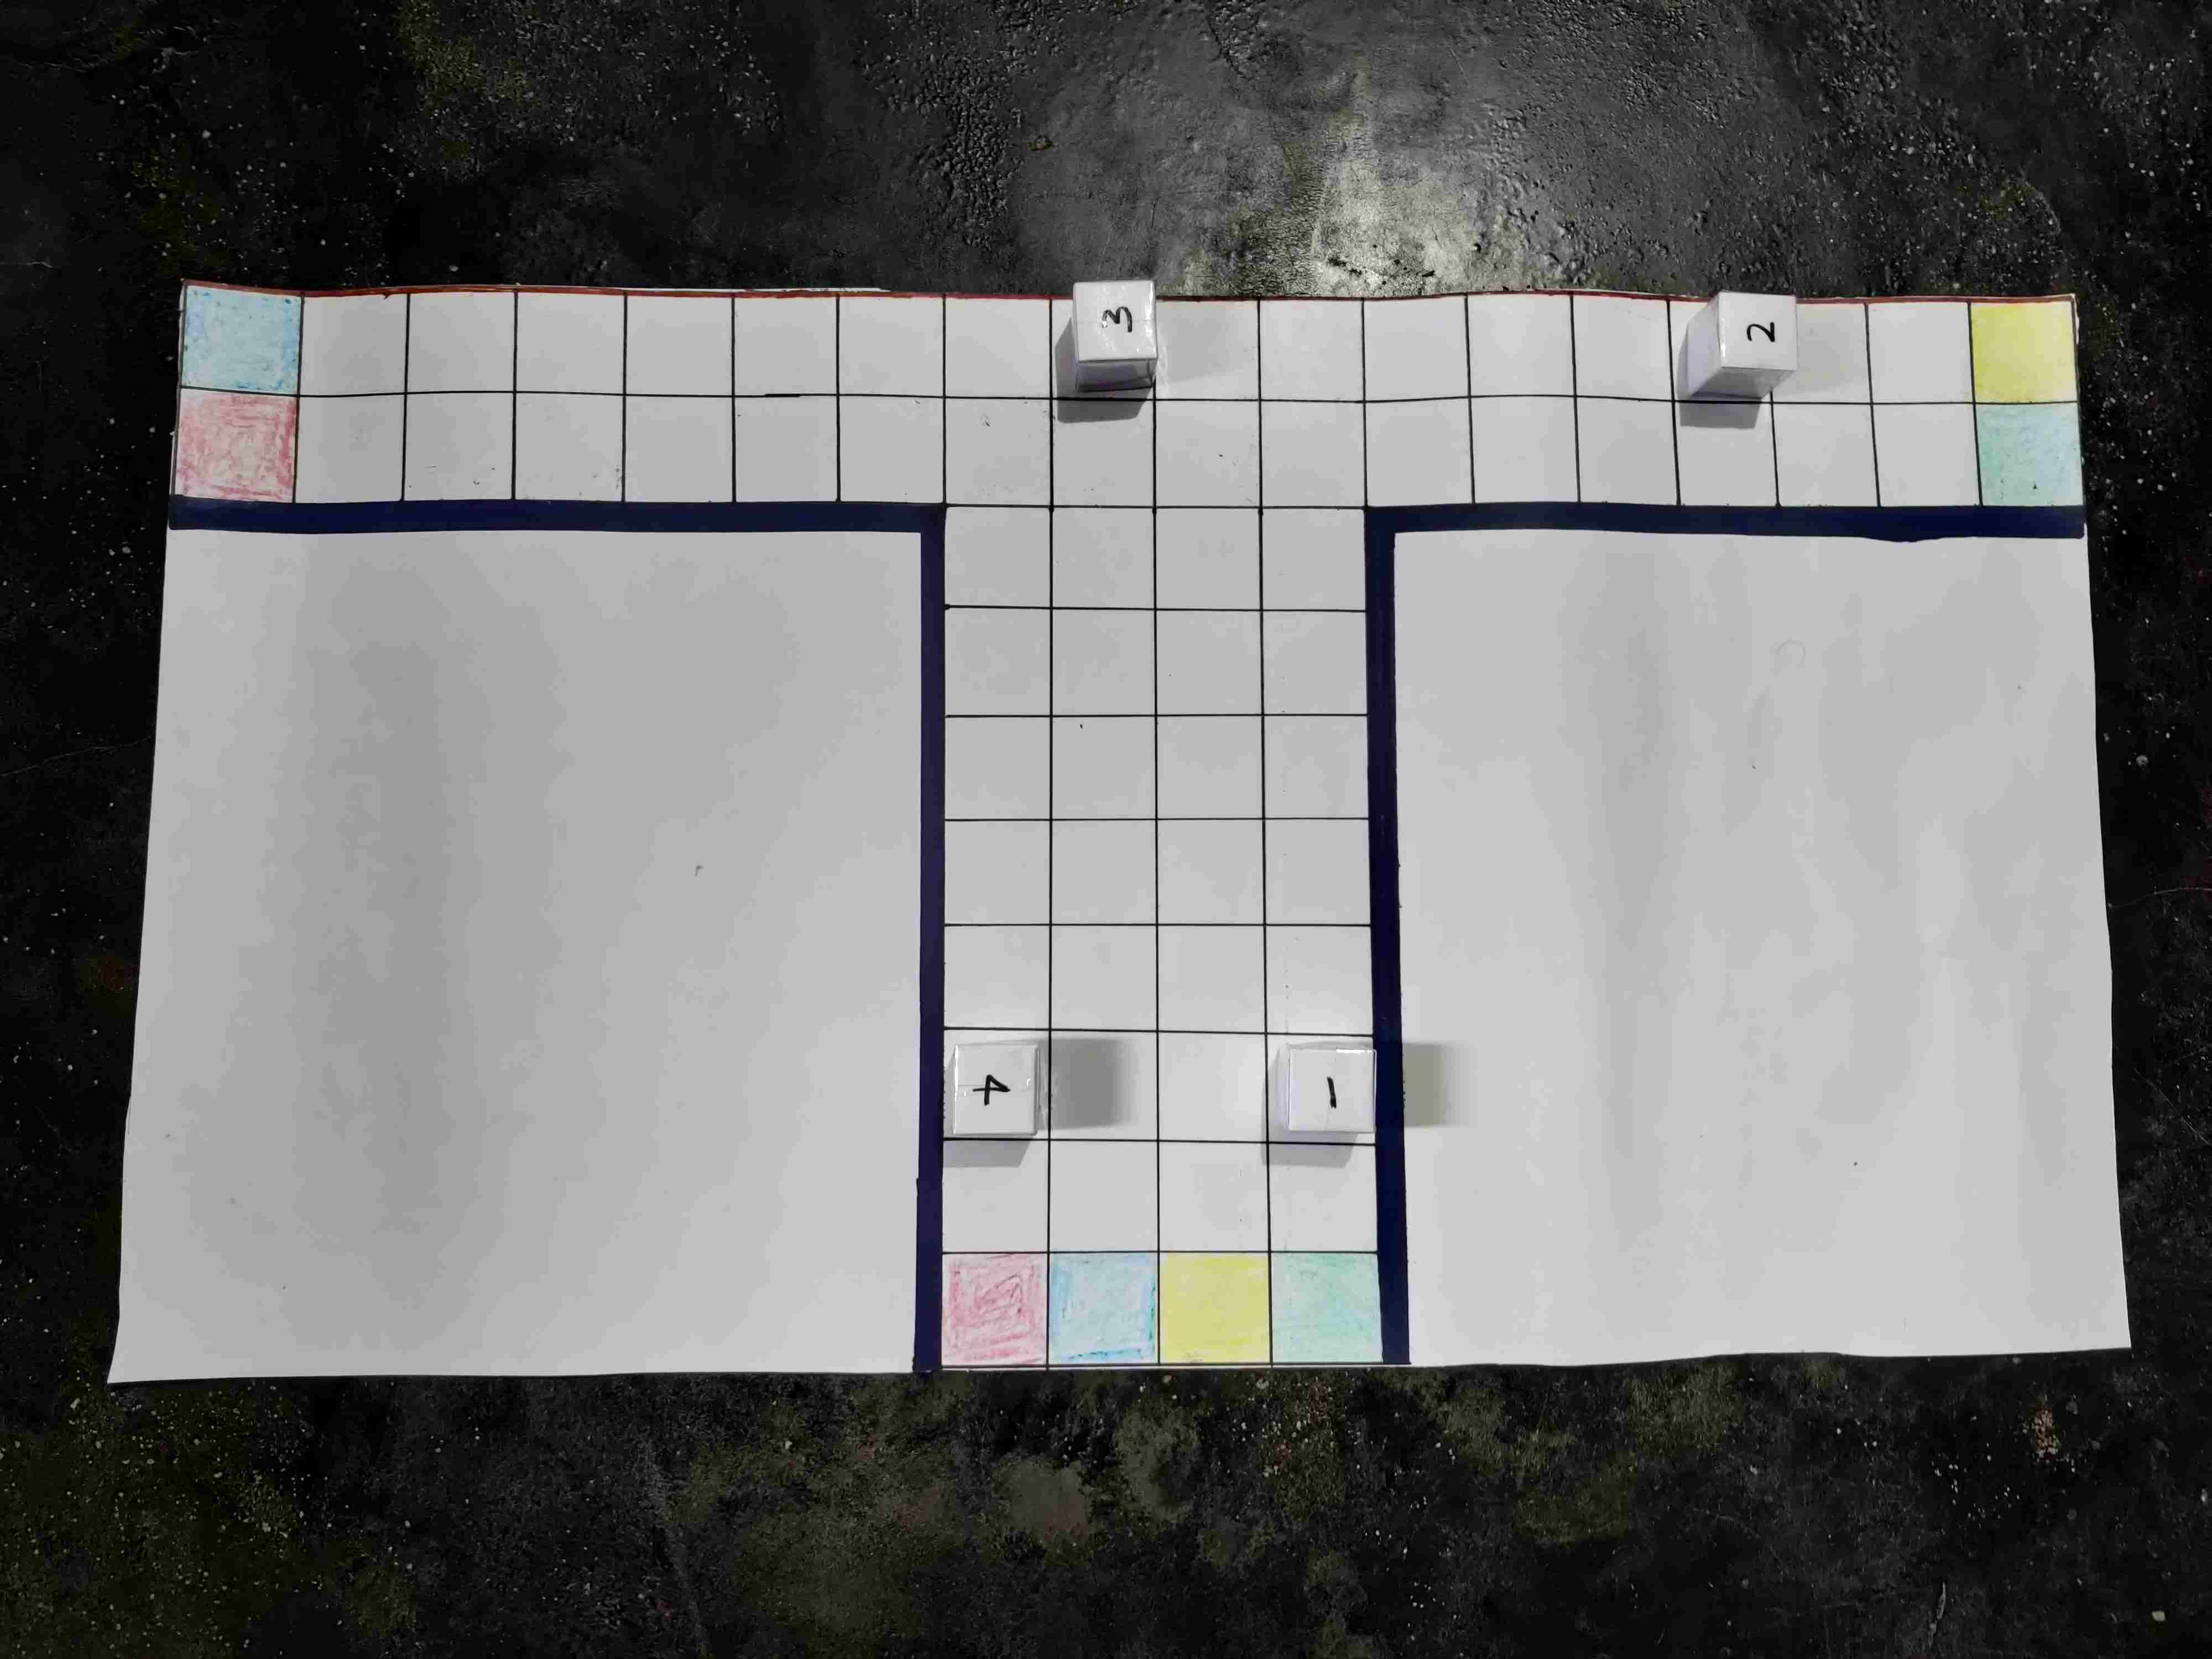arena: (179, 284, 2090, 1380)
bot: (954, 1047, 1038, 1133), (1291, 1054, 1371, 1133), (1721, 289, 1797, 366), (1075, 288, 1151, 356)
